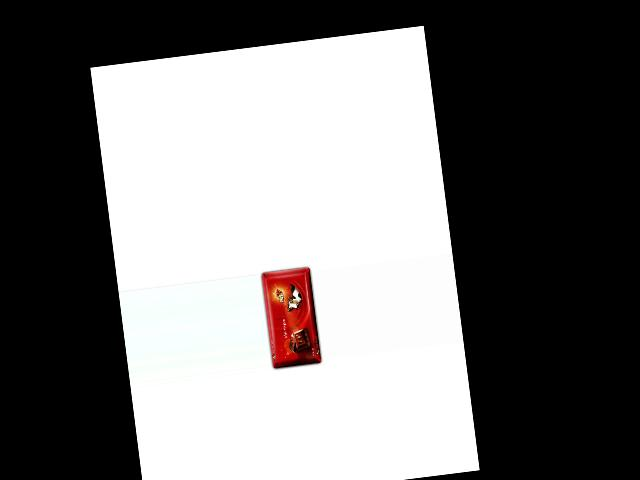chocolate: (260, 261, 325, 370)
